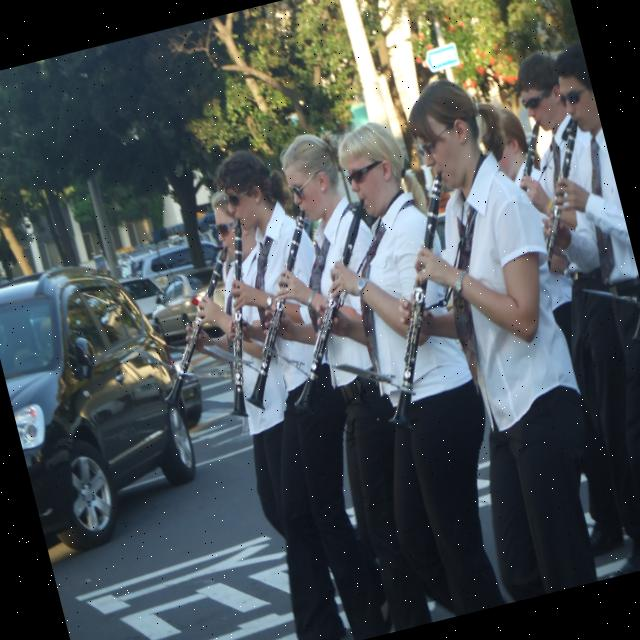clarinet: (331, 168, 500, 436), (249, 196, 414, 420), (204, 207, 350, 416), (131, 244, 264, 414), (185, 216, 289, 422), (514, 120, 612, 270), (503, 118, 558, 190)
